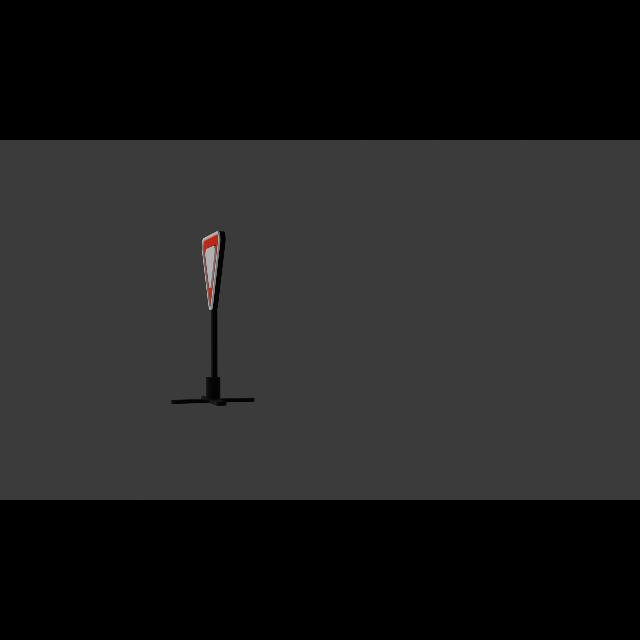sign_yield: (203, 232, 222, 311)
